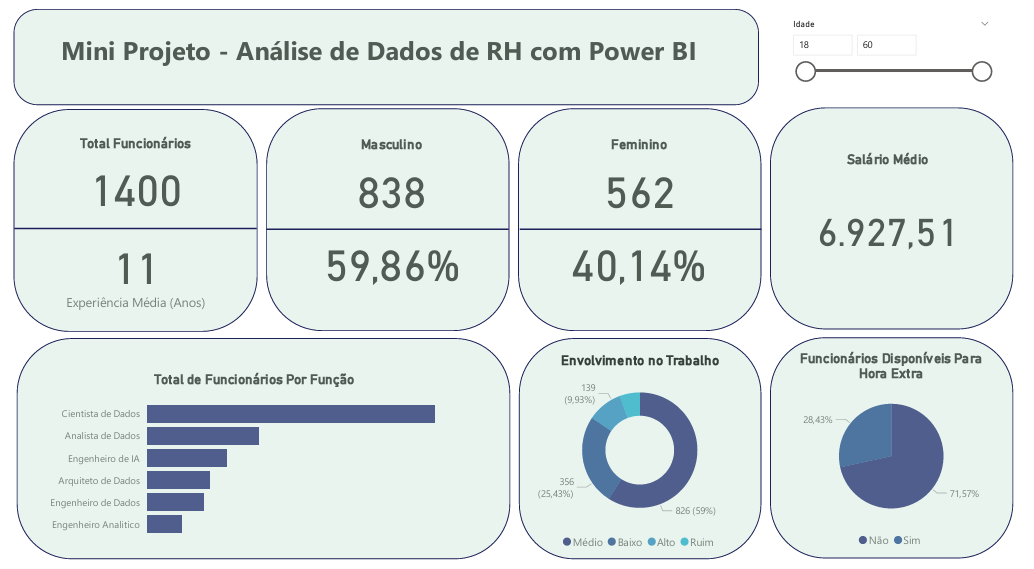

The page's visual inventory and layout, read from the dashboard file:
{"tool":"powerbi","page":{"name":"DashboardRH","canvas":[1280,720],"ordinal":0},"visuals":[{"type":"card","title":"Total Funcionários","fields":{"Values":["Medidas.TotalFunc"]},"box":[46.8,177.7,238.1,108.7],"z":0},{"type":"card","title":"Salário Médio","fields":{"Values":["Medidas.SalarioMedio"]},"box":[982.2,197.6,247.7,173.4],"z":1000},{"type":"card","title":"Masculino","fields":{"Values":["Medidas.TotalMasculino"]},"box":[391.5,179.7,187.2,108.7],"z":2000},{"type":"card","fields":{"Values":["Medidas.% Masculino"]},"box":[392.2,288.5,187.2,92.2],"z":3000},{"type":"card","title":"Feminino","fields":{"Values":["Medidas.TotalFeminino"]},"box":[701.4,179.7,187.1,109.1],"z":4000},{"type":"card","fields":{"Values":["Medidas.% Feminino"]},"box":[701.4,288.7,187.1,91.7],"z":5000},{"type":"pieChart","title":"Funcionários Disponíveis Para Hora Extra","fields":{"Category":["DatasetRH.Disponivel_Hora_Extra"],"Y":["Medidas.TotalFunc"]},"box":[979.7,446.8,261.7,256],"z":6000},{"type":"barChart","title":"Total de Funcionários Por Função","fields":{"Category":["DatasetRH.Funcao"],"Y":["Medidas.TotalFunc"]},"box":[48.3,472.8,531.3,218.8],"z":7000},{"type":"textbox","box":[30,43.8,878.8,76.2],"z":8000},{"type":"shape","box":[13.3,21.3,932,120],"z":9000},{"type":"slicer","fields":{"Values":["DatasetRH.Idade"]},"box":[975,29.1,269.8,115.6],"z":10000},{"type":"card","fields":{"Values":["Avg(DatasetRH.Anos_Experiencia)"]},"box":[46.8,294.7,238.1,108.7],"z":11000},{"type":"donutChart","title":"Envolvimento no Trabalho","fields":{"Category":["DatasetRH.Envolvimento_Trabalho"],"Y":["Medidas.TotalFunc"]},"box":[653.9,449,284,256],"z":12000},{"type":"shape","box":[644.7,431.9,303.7,276.6],"z":13000},{"type":"shape","box":[959.3,430.5,303.7,276.6],"z":14000},{"type":"shape","box":[959.3,144.4,303.7,276.6],"z":15000},{"type":"shape","box":[644.4,145,303.6,277.6],"z":16000},{"type":"shape","box":[329.5,145.1,303.7,278],"z":17000},{"type":"shape","box":[12.9,145.5,305.2,278.1],"z":18000},{"type":"shape","box":[16.9,431.9,616.9,276.6],"z":19000},{"type":"shape","box":[329.5,146.4,302.4,299.7],"z":20000},{"type":"shape","box":[645.6,146.2,302.4,299.9],"z":21000},{"type":"shape","box":[14.2,145.5,302.6,298.8],"z":22000}]}

Visuals, with their boxes in screenshot pixels (x1, y1, x2, y2), scaled from the page's 1280x720 canvas onto the 1034x569 screenshot:
"Total Funcionários" card: [38, 140, 230, 226]
"Salário Médio" card: [793, 156, 994, 293]
"Masculino" card: [316, 142, 467, 228]
card - Medidas.% Masculino: [317, 228, 468, 301]
"Feminino" card: [567, 142, 718, 228]
card - Medidas.% Feminino: [567, 228, 718, 301]
"Funcionários Disponíveis Para Hora Extra" pieChart: [791, 353, 1003, 555]
"Total de Funcionários Por Função" barChart: [39, 374, 468, 547]
textbox: [24, 35, 734, 95]
shape: [11, 17, 764, 112]
slicer - DatasetRH.Idade: [788, 23, 1006, 114]
card - Avg(DatasetRH.Anos_Experiencia): [38, 233, 230, 319]
"Envolvimento no Trabalho" donutChart: [528, 355, 758, 557]
shape: [521, 341, 766, 560]
shape: [775, 340, 1020, 559]
shape: [775, 114, 1020, 333]
shape: [521, 115, 766, 334]
shape: [266, 115, 512, 334]
shape: [10, 115, 257, 335]
shape: [14, 341, 512, 560]
shape: [266, 116, 510, 353]
shape: [522, 116, 766, 353]
shape: [11, 115, 256, 351]
